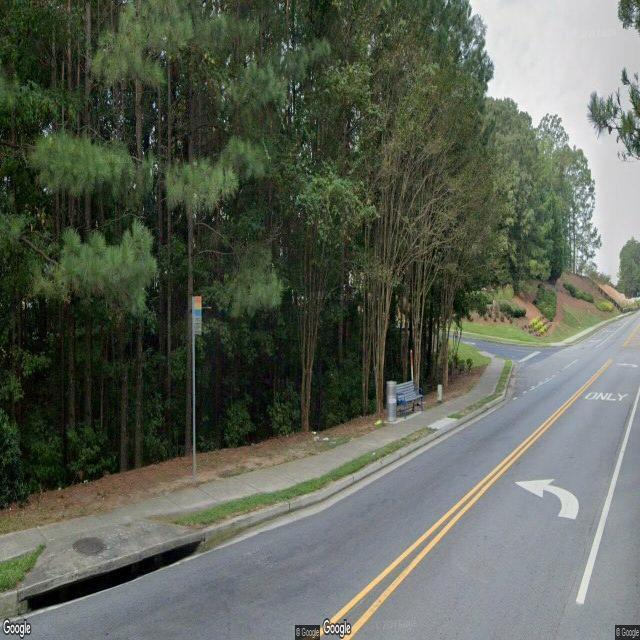seating: (396, 380, 424, 420)
trash_can: (387, 382, 398, 424)
